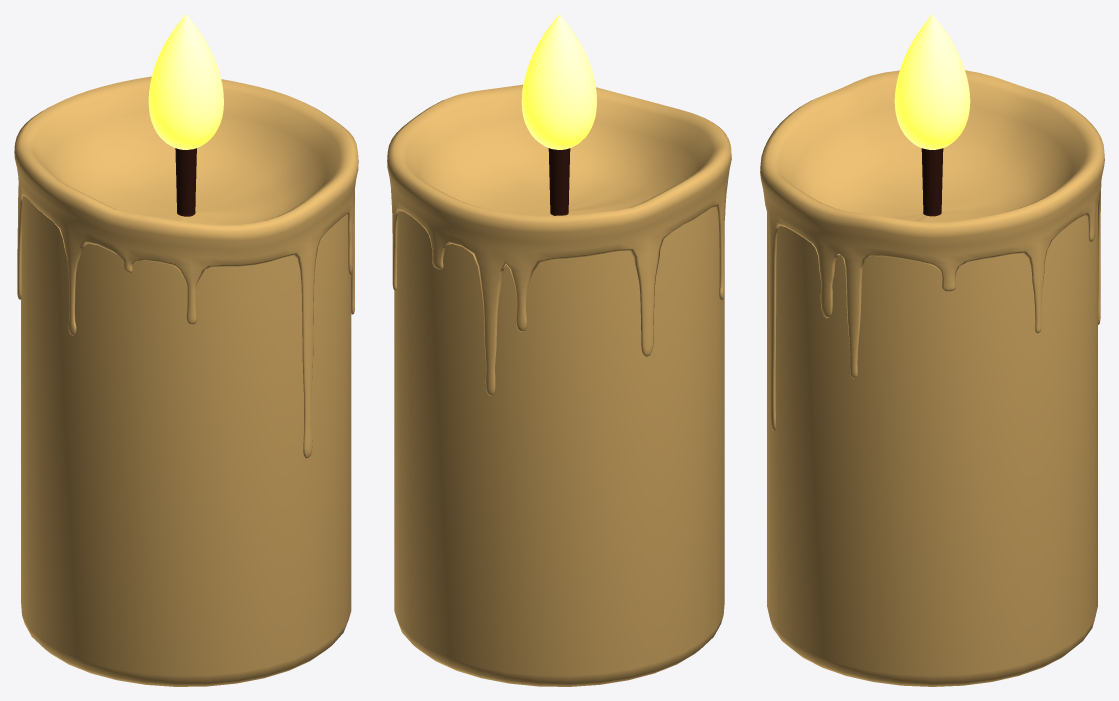
File: Candle_E.fbx
The picture shows the model from 3 angles, left to right: view 1: azimuth 30°, elevation 25°; view 2: azimuth 150°, elevation 25°; view 3: azimuth 270°, elevation 25°; orthographic projection.
Visible parts, largest first — view 1: Candle_E; view 2: Candle_E; view 3: Candle_E.
Boxes of the visible parts, <box> form: Candle_E: <box>14,14,358,686</box>; Candle_E: <box>387,14,731,686</box>; Candle_E: <box>760,14,1104,686</box>.
Size of the model in its own units: 45.51 by 45.61 by 88.96.
